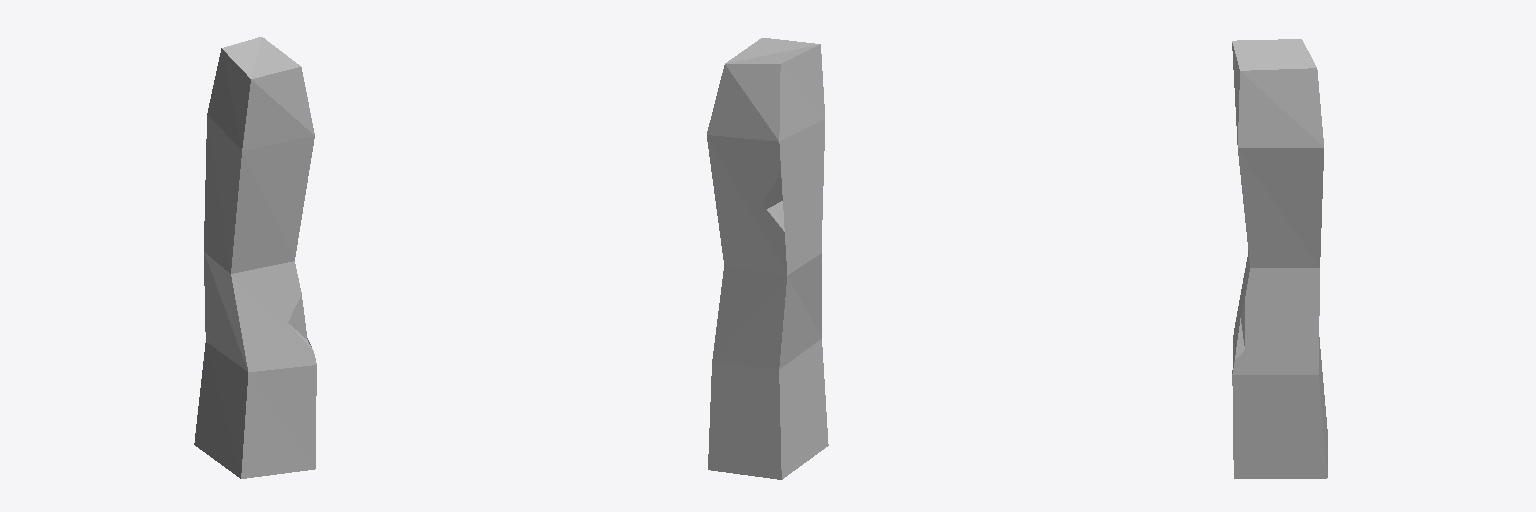
Rendered from Post3.obj.
3 views of the same model, side by side, from view 1: azimuth 30°, elevation 25°; view 2: azimuth 150°, elevation 25°; view 3: azimuth 270°, elevation 25° (orthographic).
Parts seen in each view (by area): view 1: Bridge_Large_Support_2.001_Cube.005; view 2: Bridge_Large_Support_2.001_Cube.005; view 3: Bridge_Large_Support_2.001_Cube.005.
Part boxes in pixels (x1,y1,x2,y2): Bridge_Large_Support_2.001_Cube.005: (194, 37, 316, 478); Bridge_Large_Support_2.001_Cube.005: (707, 38, 828, 479); Bridge_Large_Support_2.001_Cube.005: (1232, 39, 1327, 478).
Bounding box in the file's own units: 0.9029 × 4.51 × 0.9559.